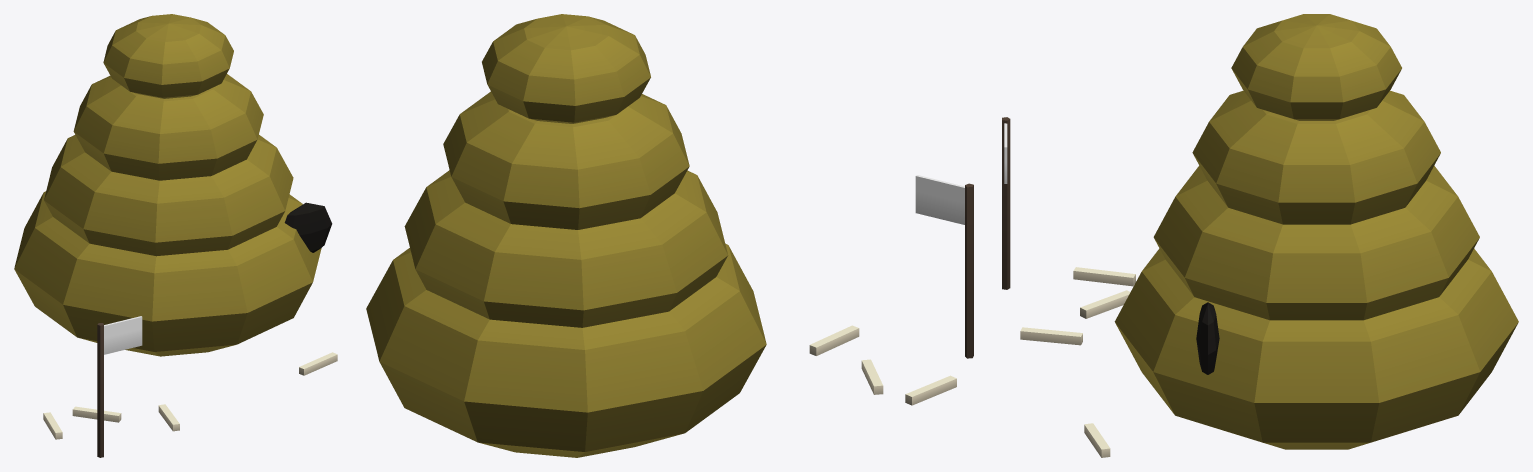
Rendered from BEE.glb.
3 renders of one model, left to right at view 1: azimuth 30°, elevation 25°; view 2: azimuth 150°, elevation 25°; view 3: azimuth 270°, elevation 25°, orthographic. The views are drawn at different scales.
Visible parts, largest first — view 1: Body, Flag; view 2: Body, Flag; view 3: Body.
Boxes of the visible parts, left/top/right/bottom form: Body: left=14, top=14, right=337, bottom=457; Flag: left=104, top=316, right=142, bottom=354; Body: left=366, top=14, right=973, bottom=457; Flag: left=915, top=175, right=964, bottom=224; Body: left=1002, top=14, right=1518, bottom=457.
Size of the model in its own units: 3.21 by 2.82 by 3.32.
1 material, 1 textured.
